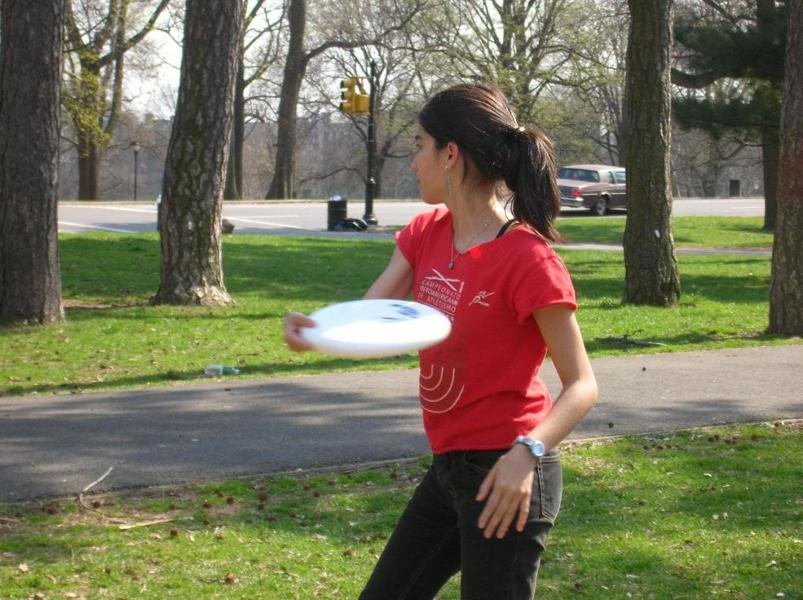person: (280, 84, 602, 600)
